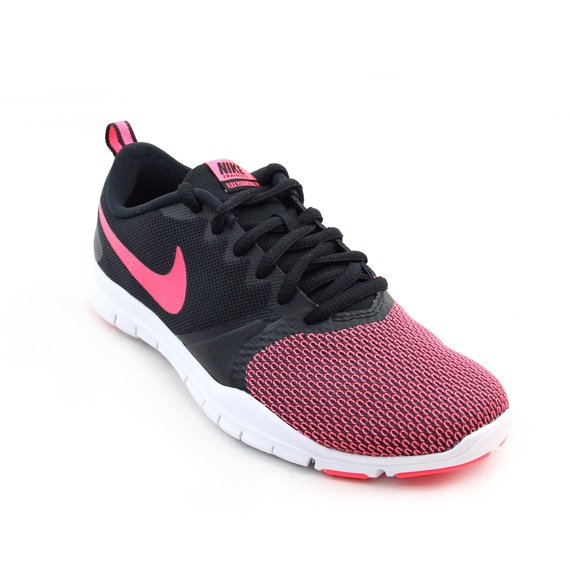nike: (102, 212, 190, 319)
